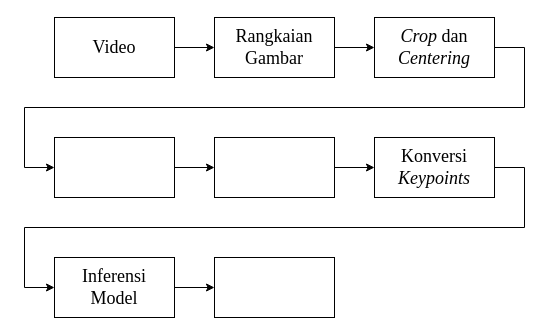
This 550x335 diagram has some shape labels left out. Each missing label, with the box of its shape:
Inferensi OpenPose: (54, 136, 174, 198)
Simpan Keypoints: (214, 136, 334, 198)
Visualisasi: (214, 256, 334, 318)
